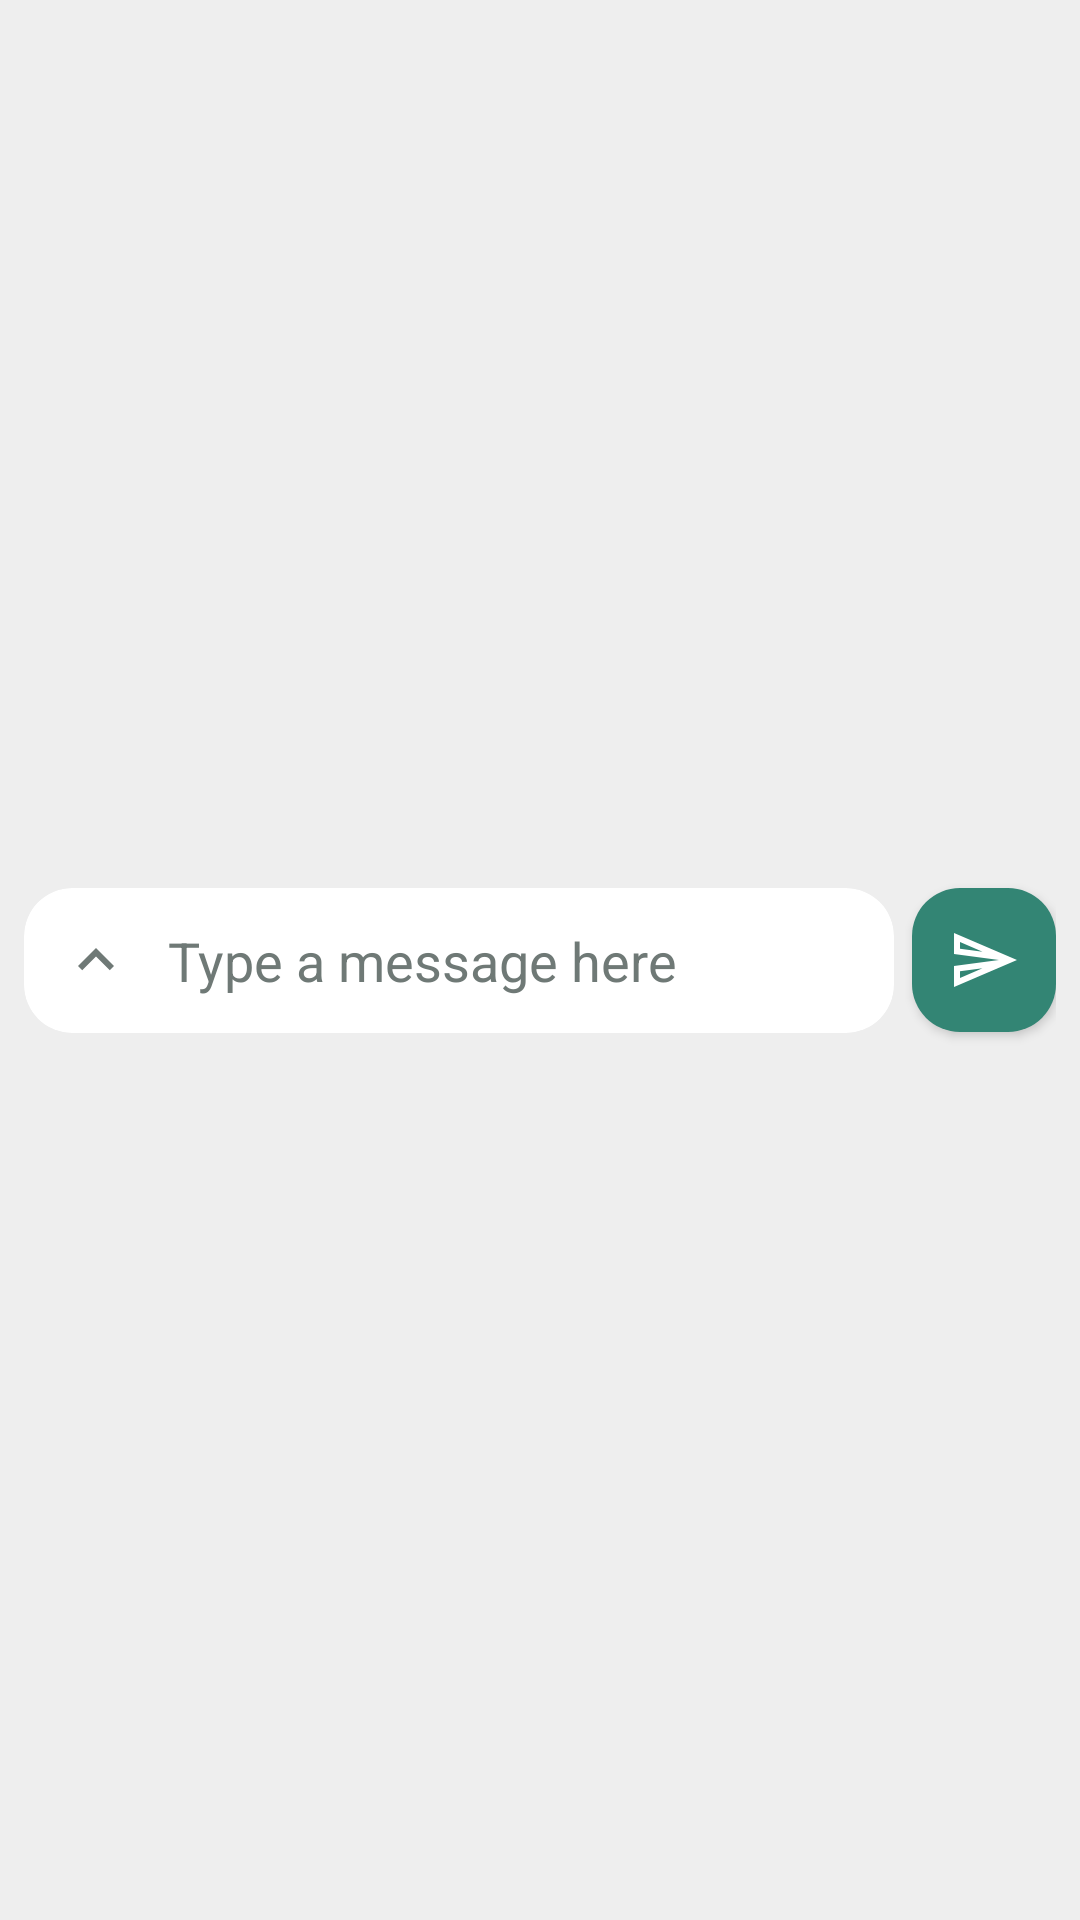

Icon click points for this 1080px×1920px phone screenshot, format (x,y):
Publish message: (984,960)
